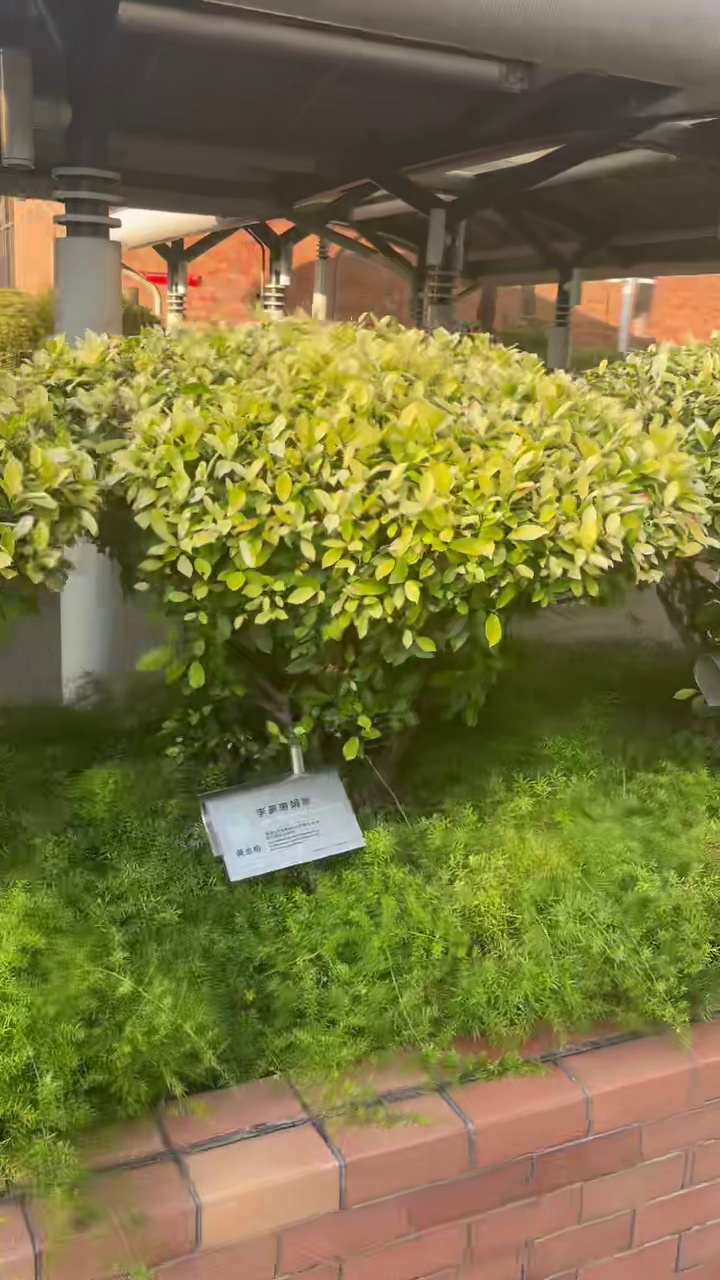Golden-leaves Fig: (2, 317, 713, 759)
